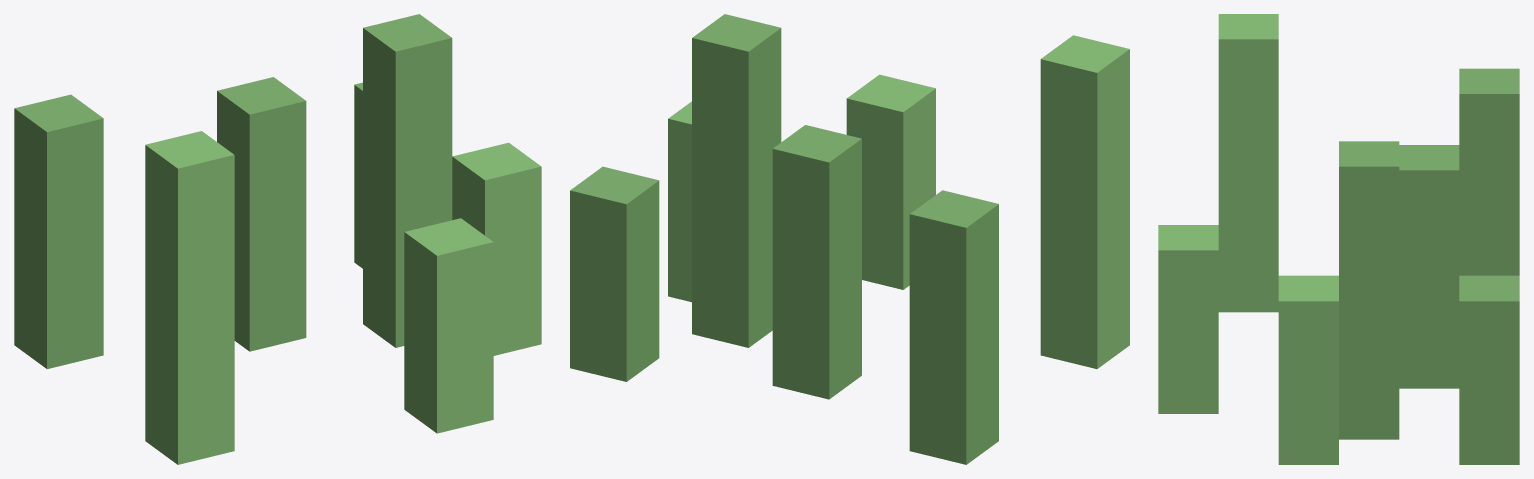
File: trebol_06.glb
3 renders of one model, left to right at view 1: azimuth 30°, elevation 25°; view 2: azimuth 150°, elevation 25°; view 3: azimuth 270°, elevation 25°, orthographic. The views are drawn at different scales.
Parts seen in each view (by area): view 1: trebol_06; view 2: trebol_06; view 3: trebol_06.
Part boxes in pixels (box(x1,y1,x2,y2)): trebol_06: box(14, 14, 541, 464); trebol_06: box(570, 14, 1129, 464); trebol_06: box(1158, 14, 1519, 464).
Bounding box in the file's own units: 0.7 × 0.5 × 0.6.
